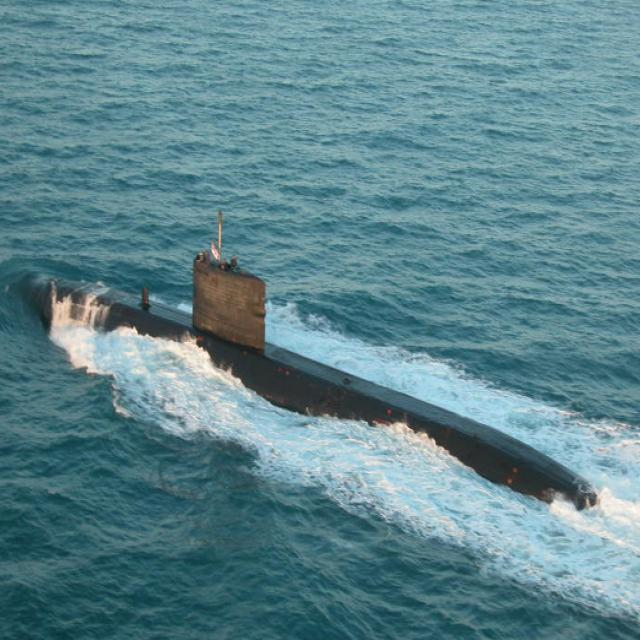submarine: (44, 258, 599, 510)
